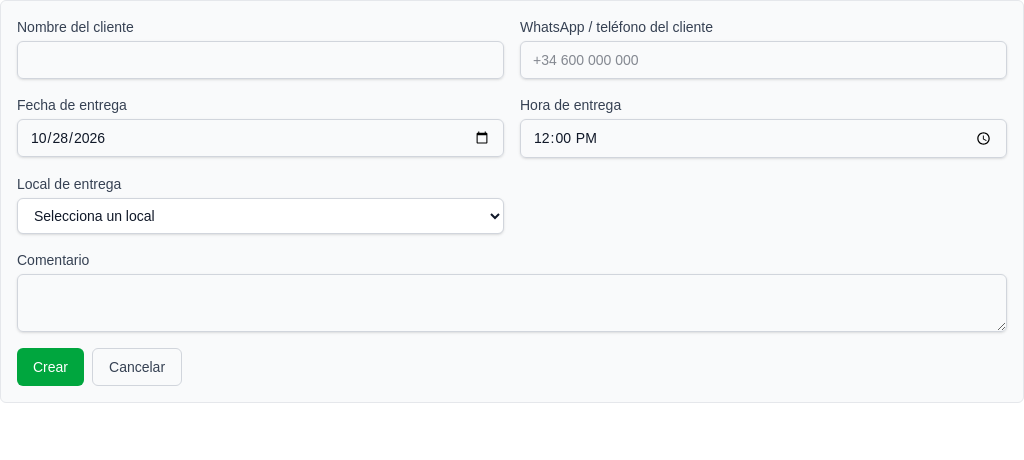
Test case: OrderForm › shows validation errors when submitting empty form
This screenshot has width=1024, height=460.
Click the button "Crear". click: (50, 367)
box: [17, 348, 84, 386]
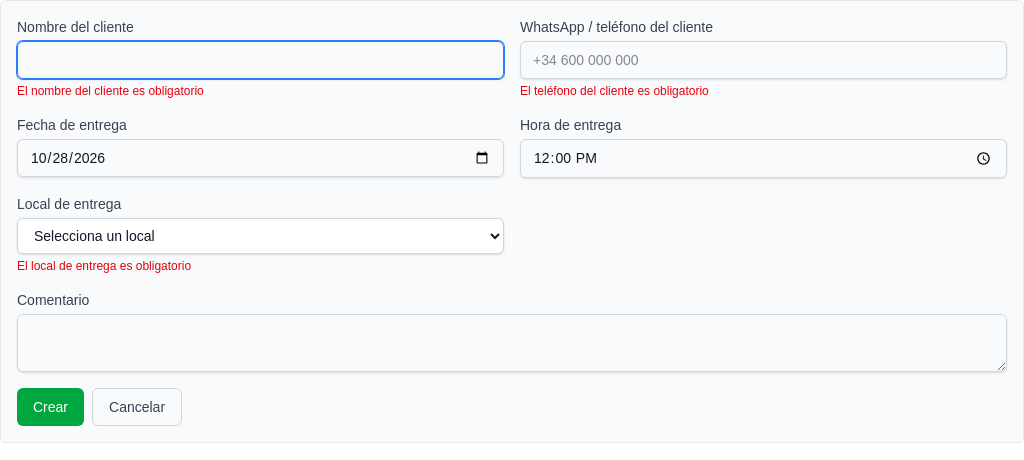
Now the text "El nombre del cliente es obligatorio" is shown, box [17, 84, 204, 98]
Now the text "El teléfono del cliente es obligatorio" is shown, box [520, 84, 709, 98]
